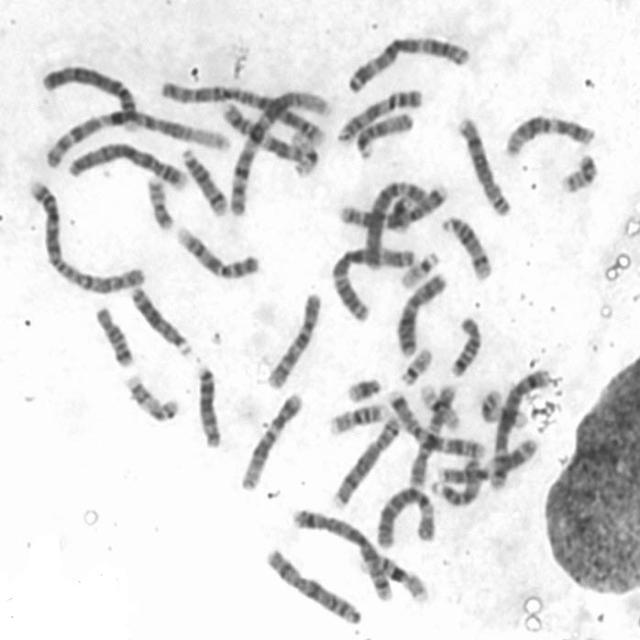A1: (224, 83, 332, 218), (44, 103, 230, 173)
A2: (24, 172, 148, 297), (154, 74, 330, 148)
A3: (342, 29, 473, 94), (327, 239, 418, 322)
B4: (36, 58, 143, 135), (63, 136, 190, 192)
B5: (287, 502, 395, 604), (487, 360, 555, 492)
C10: (262, 286, 326, 392), (406, 379, 460, 489)
C11: (218, 96, 306, 165), (434, 432, 539, 484)
C12: (237, 386, 306, 492), (500, 109, 598, 158)
C6: (361, 176, 433, 272), (372, 480, 439, 550)
C7: (382, 384, 489, 460), (335, 180, 450, 232)
C8: (328, 410, 403, 510), (452, 110, 514, 219)
C9: (171, 220, 262, 282), (334, 84, 425, 144)
D13: (126, 279, 195, 359), (192, 359, 224, 450)
D14: (177, 142, 231, 217), (438, 210, 494, 281)
D15: (353, 105, 416, 161), (428, 452, 485, 508)
E16: (355, 546, 431, 604), (324, 397, 390, 438)
E17: (121, 368, 182, 425), (476, 384, 530, 431)
E18: (90, 301, 136, 369), (446, 311, 484, 378)
F19: (414, 378, 463, 431), (287, 126, 322, 178)
F20: (141, 170, 177, 232), (556, 148, 600, 195)
G21: (342, 371, 385, 404), (387, 194, 414, 236)
G22: (395, 244, 441, 290), (396, 342, 435, 387)
X: (260, 542, 363, 627), (392, 267, 450, 358)
